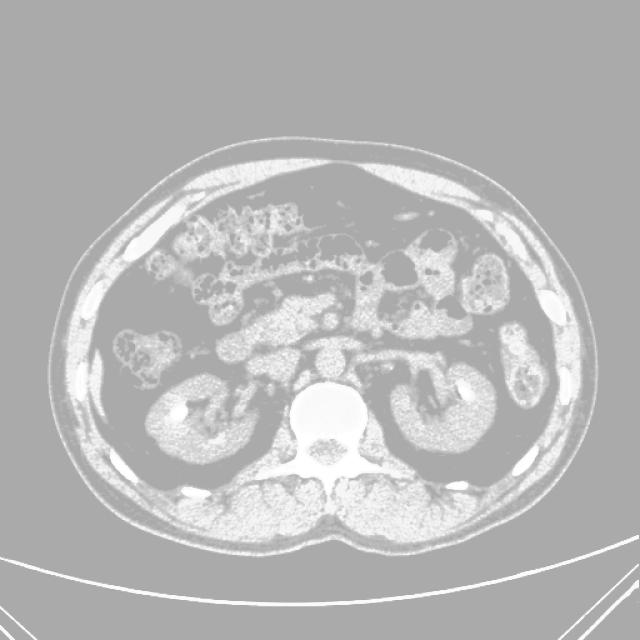STONE: (152, 275, 523, 495)
